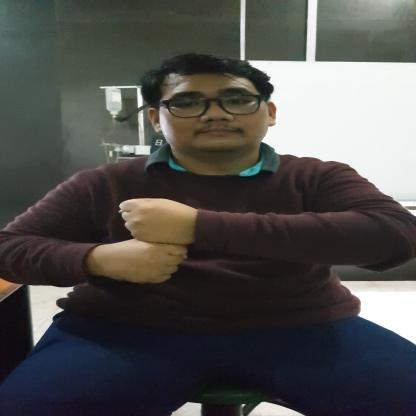G: (94, 195, 202, 287)
